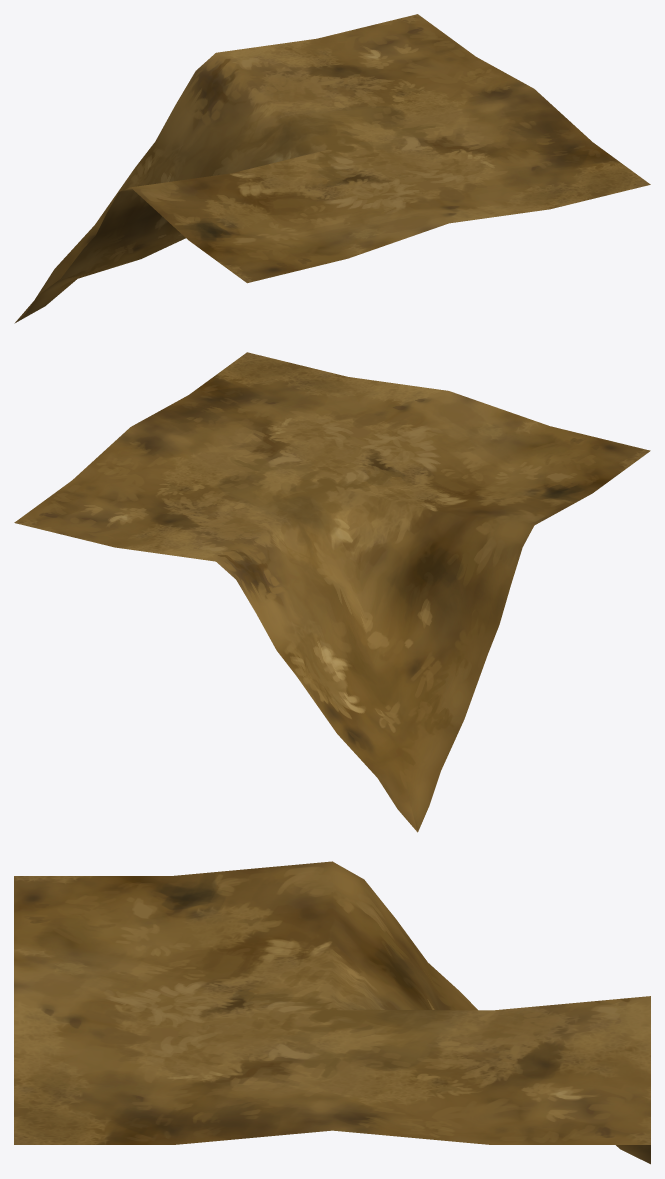
Rendered from Levelled_Slope_Incline_002.fbx.
3 renders of one model, top to bottom at view 1: azimuth 30°, elevation 25°; view 2: azimuth 150°, elevation 25°; view 3: azimuth 270°, elevation 25°, orthographic. The views are drawn at different scales.
Visible parts, largest first — view 1: Levelled_Slope_Incline_002; view 2: Levelled_Slope_Incline_002; view 3: Levelled_Slope_Incline_002.
Part boxes in pixels (box(x1,y1,x2,y2)): Levelled_Slope_Incline_002: box(14, 14, 650, 323); Levelled_Slope_Incline_002: box(14, 352, 650, 832); Levelled_Slope_Incline_002: box(14, 861, 650, 1164).
Size of the model in its own units: 10 by 5.25 by 10.
Materials: 1 (1 with a texture image).
